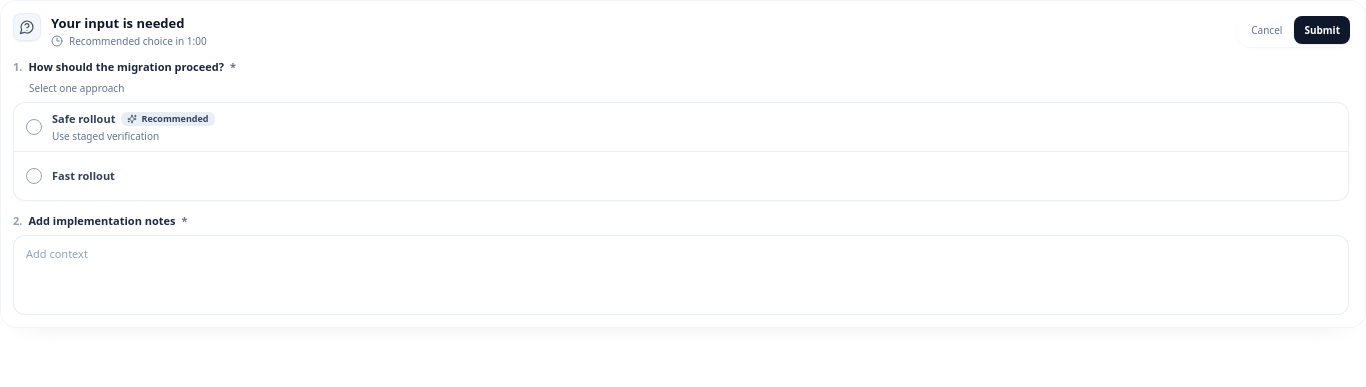
Test: UserQuestionCard › shows inline errors and keeps the form open
Step 1. Click the button "Submit" → click(1322, 30), box [1294,16,1350,44]
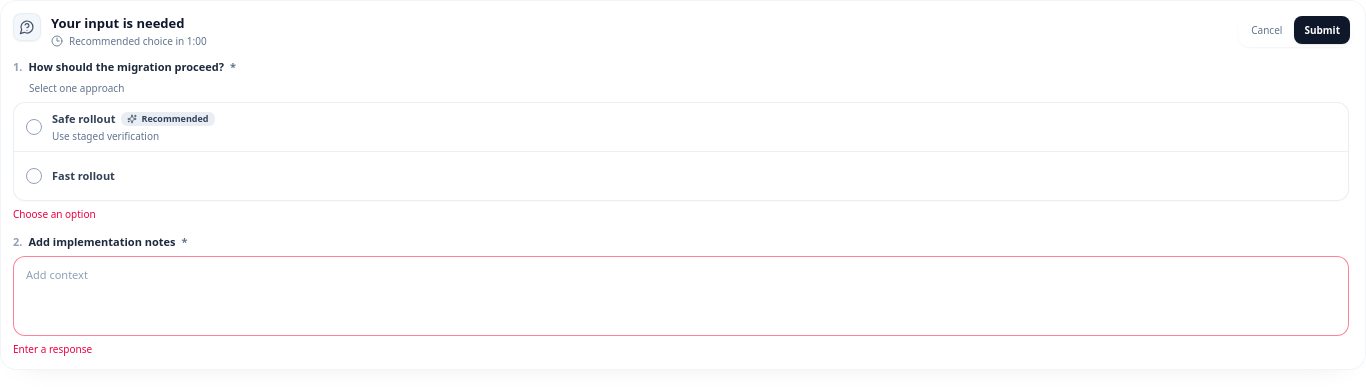
expect the text "Choose an option" is shown: met, box [13,206,96,220]
expect the text "Enter a response" is shown: met, box [13,342,92,356]
